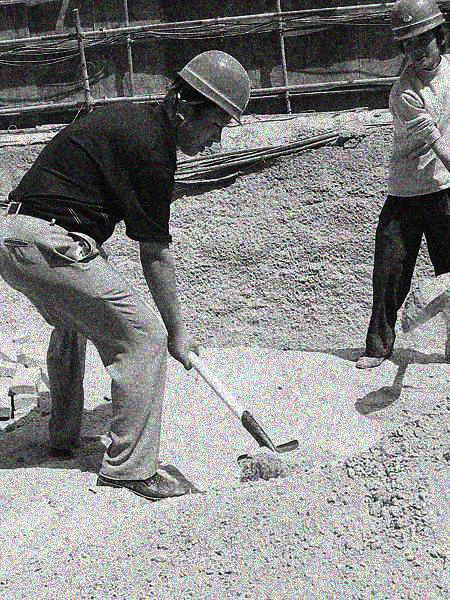helmet: (160, 47, 251, 156), (383, 1, 449, 70)
